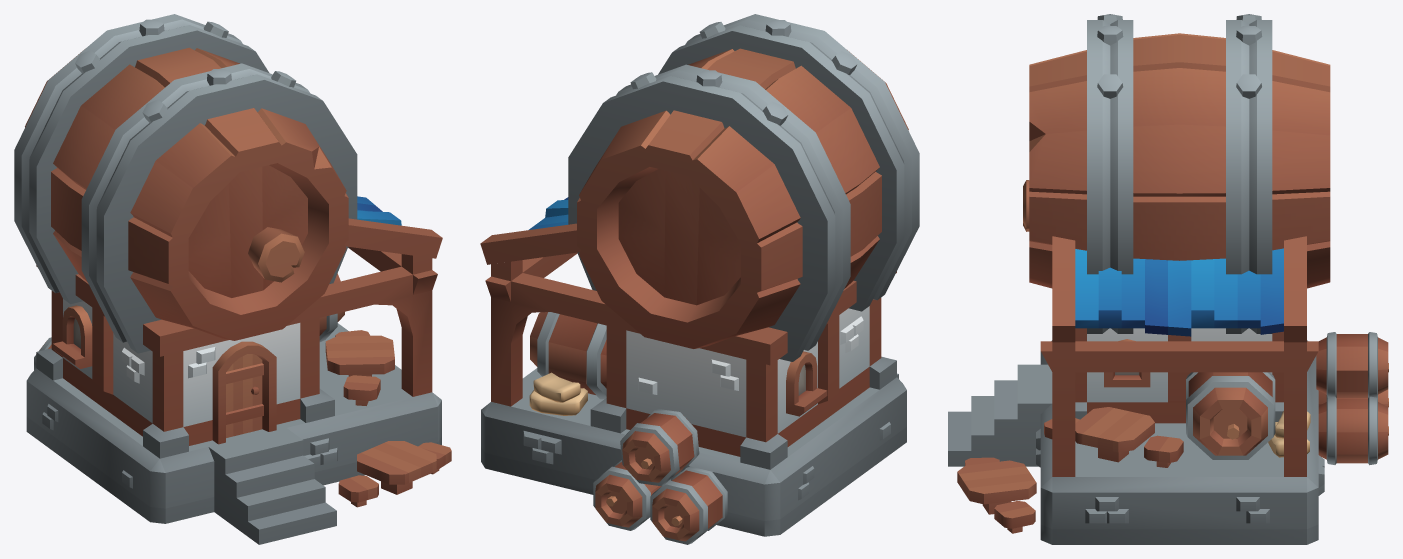
Rendered from tavern.glb.
3 renders of one model, left to right at view 1: azimuth 30°, elevation 25°; view 2: azimuth 150°, elevation 25°; view 3: azimuth 270°, elevation 25°, orthographic. The views are drawn at different scales.
Visible parts, largest first — view 1: building_tavern_blue; view 2: building_tavern_blue; view 3: building_tavern_blue.
Part boxes in pixels (bbox=[...]): building_tavern_blue: bbox=[14, 14, 451, 544]; building_tavern_blue: bbox=[480, 14, 919, 544]; building_tavern_blue: bbox=[948, 14, 1388, 544].
Bounding box in the file's own units: 1.17 × 1.4 × 1.33.
Materials: 1 (1 with a texture image).
